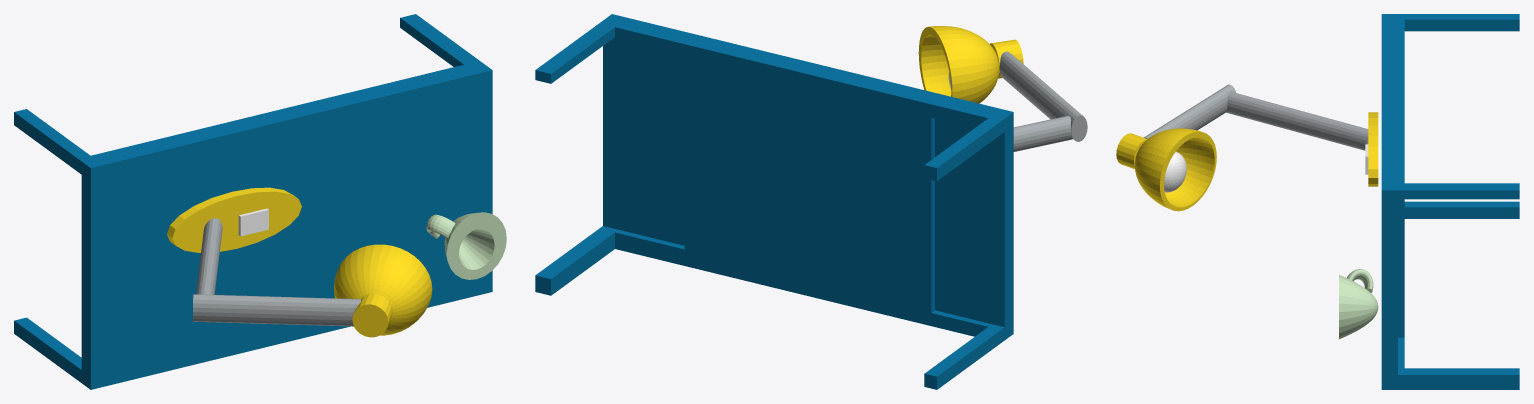
The model's file is tinker.obj.
3 renders of one model, left to right at view 1: azimuth 30°, elevation 25°; view 2: azimuth 150°, elevation 25°; view 3: azimuth 270°, elevation 25°, orthographic. The views are drawn at different scales.
Visible parts, largest first — view 1: group_0_30377, group_0_16768282, group_0_10988977, group_0_13165757, group_0_16448250; view 2: group_0_30377, group_0_16768282, group_0_10988977; view 3: group_0_30377, group_0_16768282, group_0_10988977, group_0_13165757, group_0_16448250.
Part boxes in pixels (x1,y1,x2,y2): group_0_30377: (14,14,492,389); group_0_16768282: (167,187,432,337); group_0_10988977: (193,218,361,326); group_0_13165757: (426,212,506,279); group_0_16448250: (238,208,268,236); group_0_30377: (535,14,1013,389); group_0_16768282: (918,26,1023,103); group_0_10988977: (999,51,1087,151); group_0_30377: (1381,14,1519,389); group_0_16768282: (1116,112,1378,211); group_0_10988977: (1144,84,1368,150); group_0_13165757: (1339,269,1378,339); group_0_16448250: (1164,144,1368,192).
Bounding box in the file's own units: 127 × 67 × 123.
